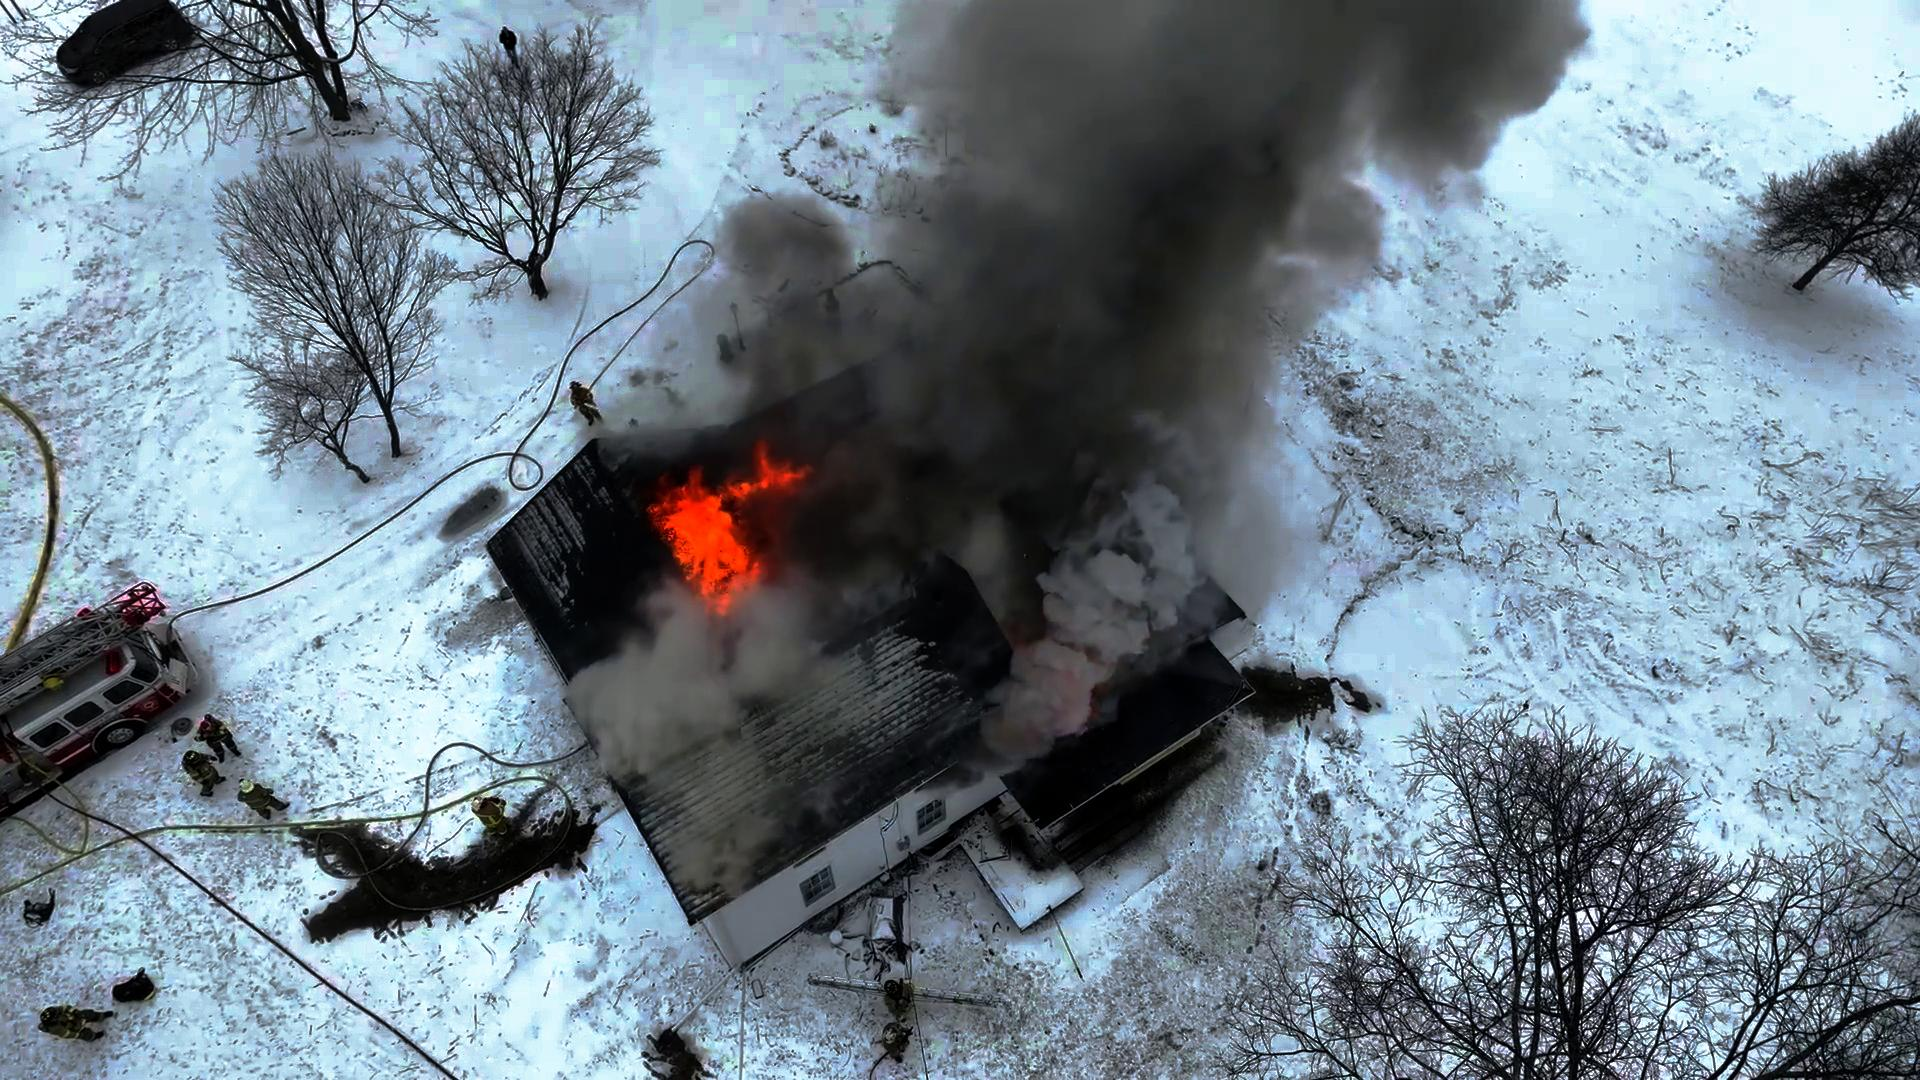fire: (641, 440, 793, 626)
smoke: (1026, 231, 1237, 475)
